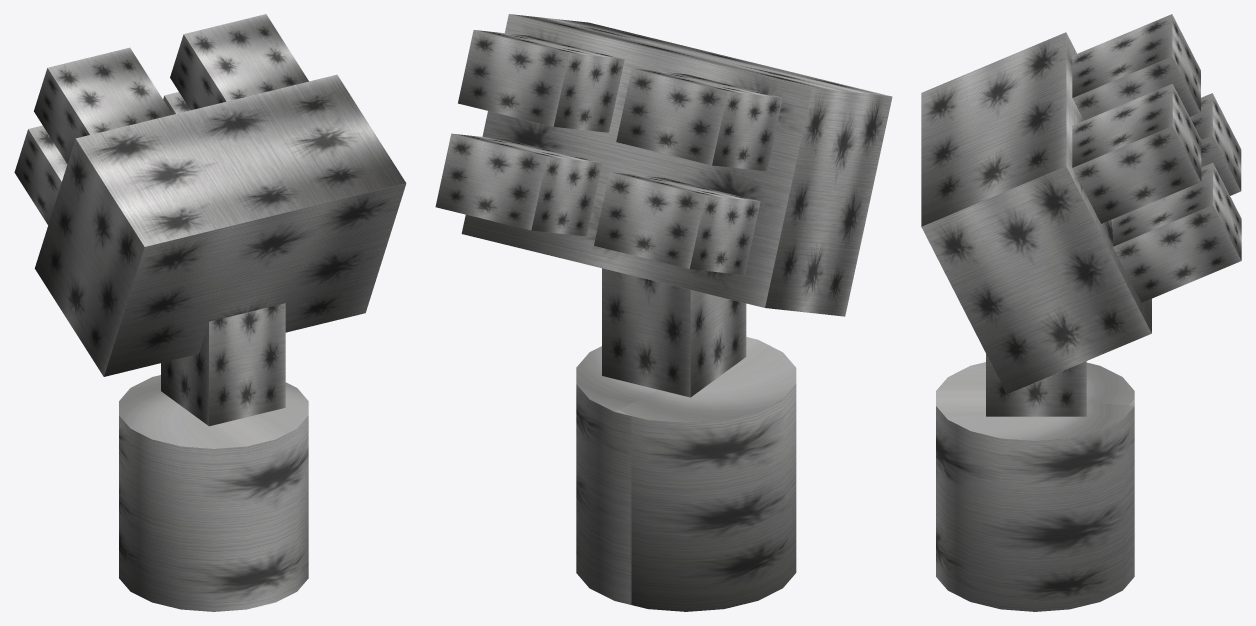
The model's file is TurretFrac.FBX.
3 renders of one model, left to right at view 1: azimuth 30°, elevation 25°; view 2: azimuth 150°, elevation 25°; view 3: azimuth 270°, elevation 25°, orthographic. The views are drawn at different scales.
Parts seen in each view (by area): view 1: Box005, Cylinder001, Box004, Box006, Box007, Box009; view 2: Cylinder001, Box005, Box004, Box008, Box007, Box009, Box006; view 3: Box005, Cylinder001, Box007, Box008, Box006, Box004, Box009.
Boxes of the visible parts, x1,y1,x2,y2 form: Box005: [34, 74, 406, 376]; Cylinder001: [119, 375, 308, 611]; Box004: [161, 303, 285, 426]; Box006: [34, 47, 172, 163]; Box007: [170, 14, 308, 110]; Box009: [14, 125, 67, 224]; Cylinder001: [576, 337, 796, 611]; Box005: [461, 14, 892, 316]; Box004: [602, 268, 746, 397]; Box008: [435, 133, 602, 236]; Box007: [458, 30, 624, 132]; Box009: [594, 172, 760, 274]; Box006: [616, 68, 782, 171]; Box005: [921, 32, 1151, 394]; Cylinder001: [936, 362, 1134, 611]; Box007: [1072, 83, 1201, 223]; Box008: [1113, 162, 1241, 302]; Box006: [1072, 14, 1200, 120]; Box004: [986, 354, 1086, 416]; Box009: [1190, 93, 1241, 195].
Bounding box in the file's own units: 3.04 × 5.33 × 3.07.
7 materials, 7 textured.
